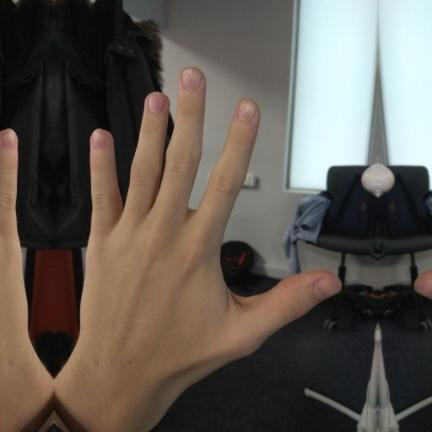Nail: (312, 277, 341, 300), (182, 69, 202, 90), (238, 101, 257, 121), (415, 277, 432, 299), (148, 95, 166, 112), (93, 133, 107, 150), (1, 133, 15, 150)
